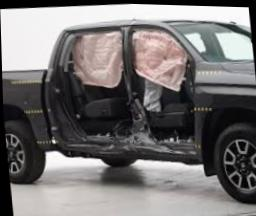Door: (59, 26, 132, 148), (128, 28, 195, 148)
